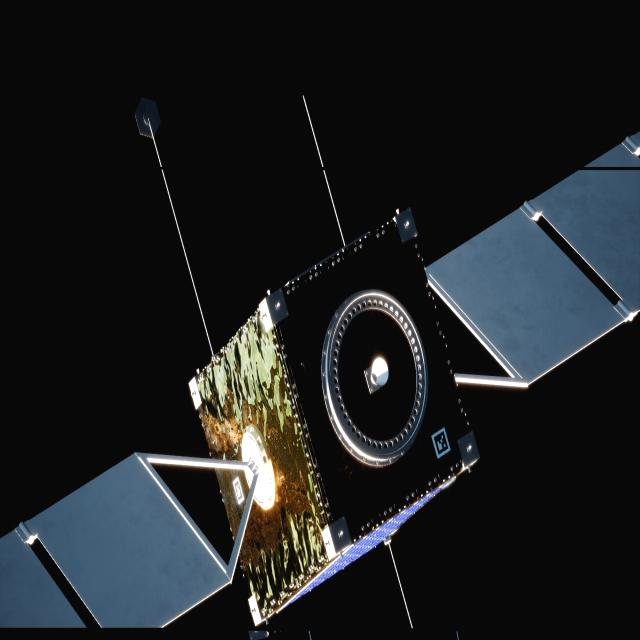medium_debris: (0, 132, 640, 631)
